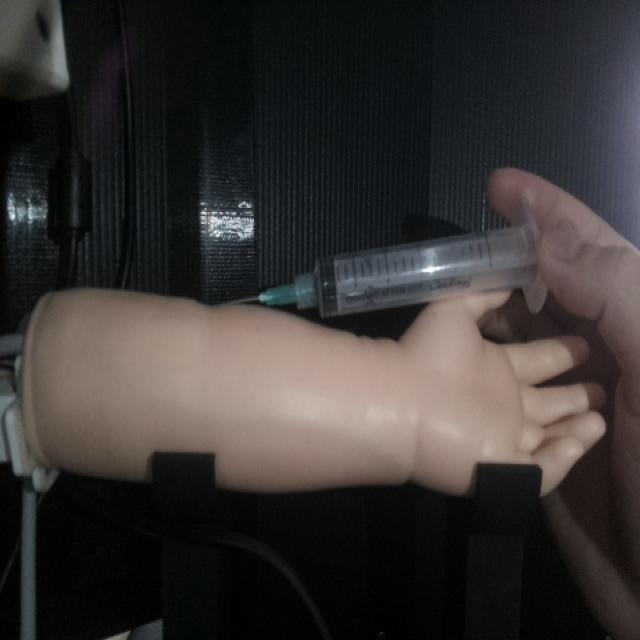Below 15 degrees: (225, 198, 550, 322)
